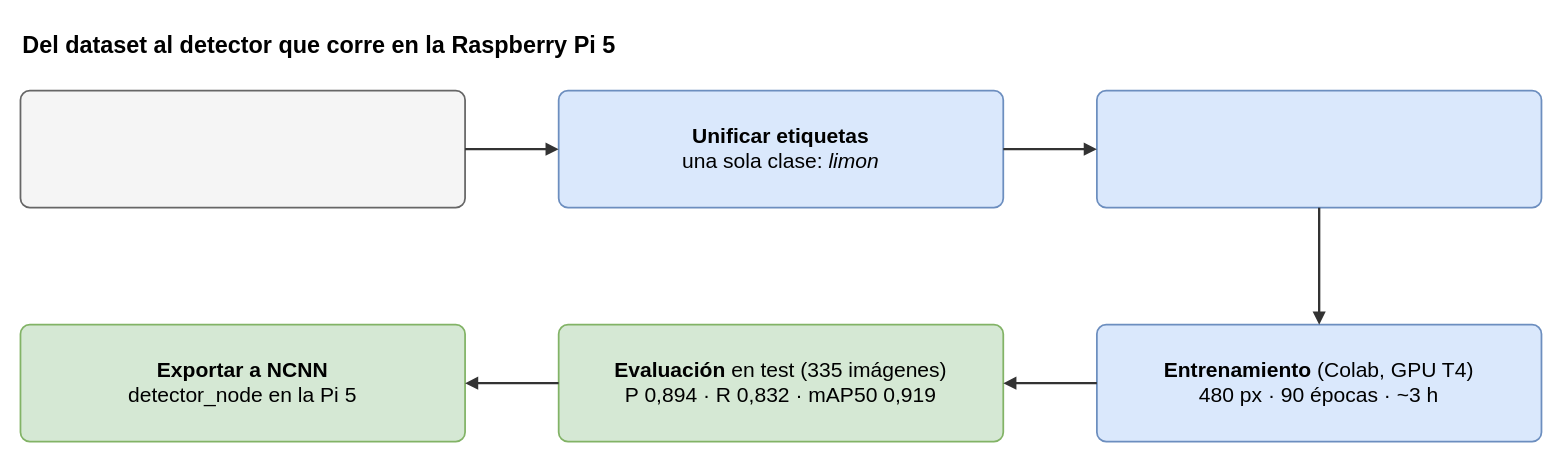
This 1563x462 diagram has some shape labels left out. Each missing label, with the box of its shape:
Roboflow Universe 3 datasets públicos de limones: (19, 89, 465, 208)
YOLO26n preentrenado en COCO: (1095, 89, 1542, 208)
